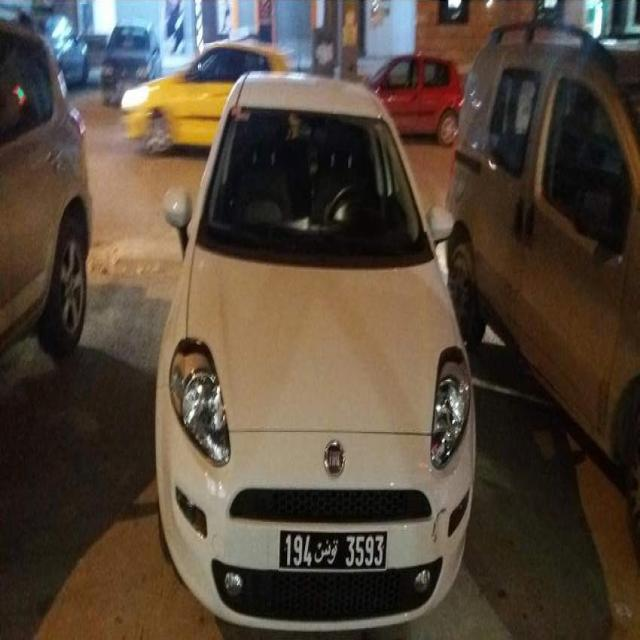licence plate: (280, 531, 386, 572)
